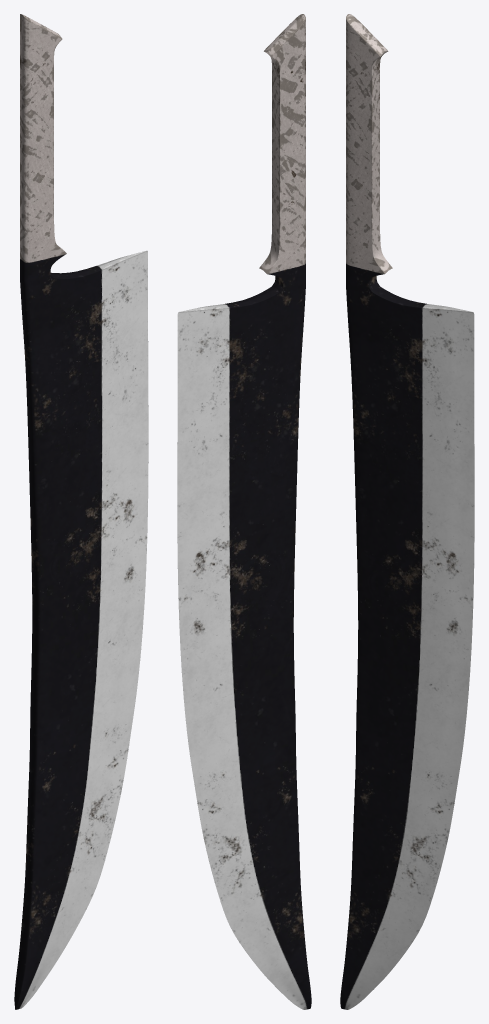
The model's file is ichigo_shikai.glb.
3 renders of one model, left to right at view 1: azimuth 30°, elevation 25°; view 2: azimuth 210°, elevation 25°; view 3: azimuth 330°, elevation 25°, orthographic.
Visible parts, largest first — view 1: zangetsuShikaiHigh; view 2: zangetsuShikaiHigh; view 3: zangetsuShikaiHigh.
Boxes of the visible parts, x1=… form: zangetsuShikaiHigh: x1=14, y1=14, x2=148, y2=1009; zangetsuShikaiHigh: x1=177, y1=14, x2=311, y2=1009; zangetsuShikaiHigh: x1=340, y1=14, x2=474, y2=1009.
Size of the model in its own units: 27.17 by 194 by 2.8.
Materials: 1 (1 with a texture image).
